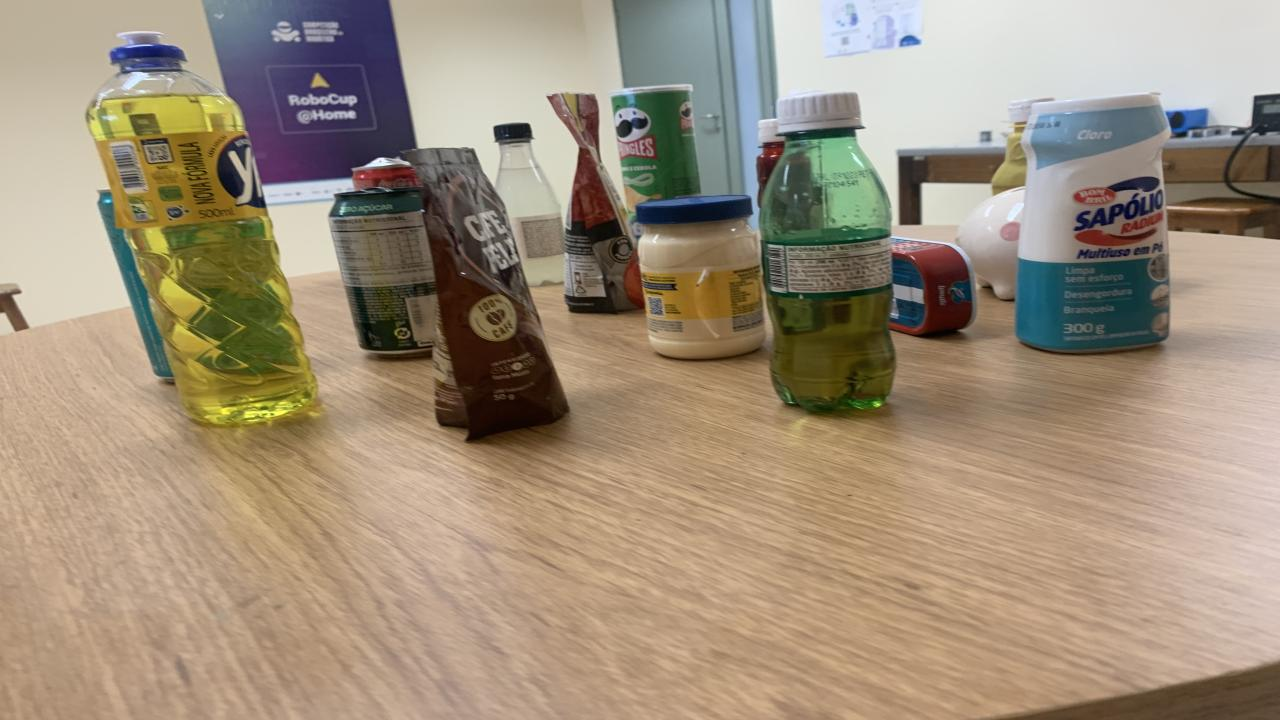Cleaner-Cleanup_Items: (1015, 96, 1170, 352)
Coffee-Pantry_Items: (405, 148, 568, 441)
Coke-Drinks: (352, 158, 420, 189)
Detergent-Cleanup_Items: (85, 32, 318, 424)
Guarana-Drinks: (760, 92, 895, 412)
Guarana_Can-Drinks: (330, 188, 435, 354)
Mayonnaise-Pantry_Items: (635, 195, 765, 358)
Mustard-Pantry_Items: (990, 98, 1052, 195)
Pig_Safe-Miscellaneous: (955, 188, 1025, 300)
Pringles-Snacks: (610, 84, 702, 223)
Soda-Drinks: (492, 122, 565, 285)
Tea-Drinks: (98, 191, 172, 379)
Tomato_Sauce-Pantry_Items: (548, 94, 642, 313)
Tuna_Can-Pantry_Items: (890, 236, 978, 336)
